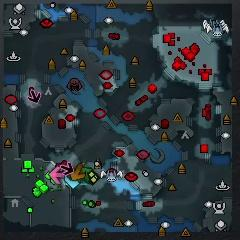x1: (50, 167, 66, 184)
x1Clone: (60, 162, 74, 176), (28, 89, 41, 104)
x3: (64, 175, 79, 188)
x4: (81, 167, 93, 185)
x5: (70, 163, 85, 180)
